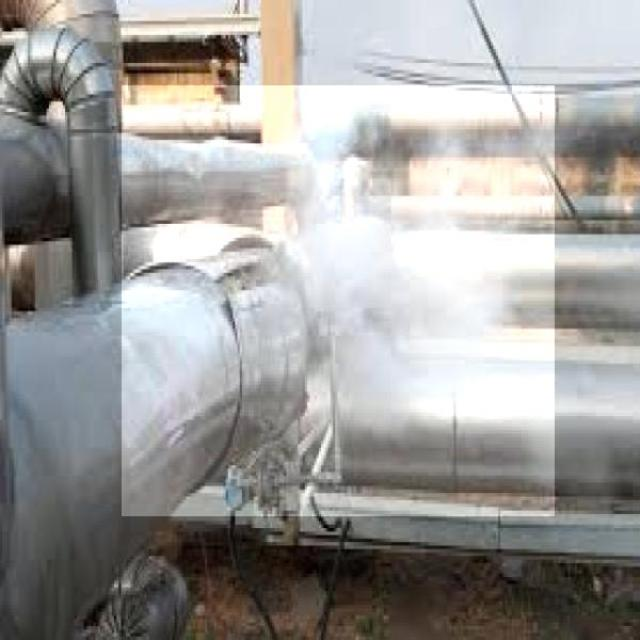corrosion: (122, 85, 555, 516)
